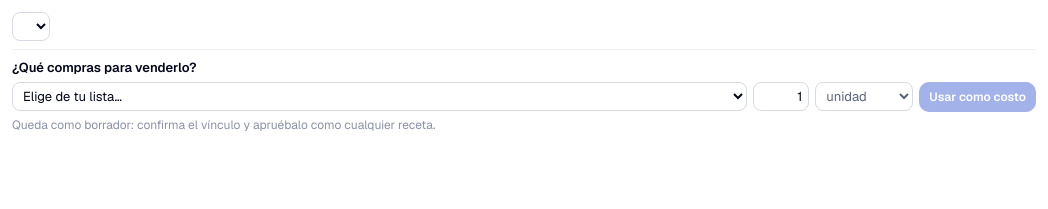
Test: TreatmentPanel inline price › denies with the server's Spanish message
Select "BEBIDA" in the dropdown "Elige de tu lista…" at x=380, y=96, box [12,82,747,111]
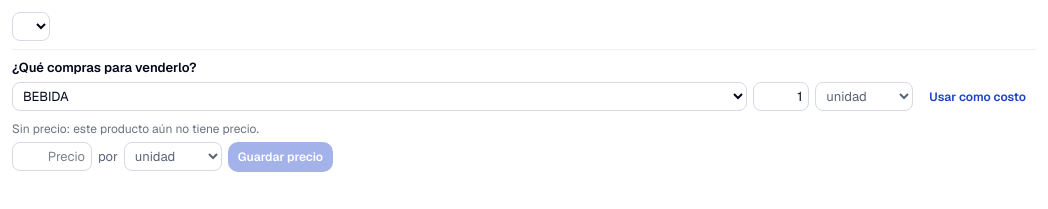
Type "2" into the field labelled "Precio" at x=52, y=157, box [12,142,92,171]
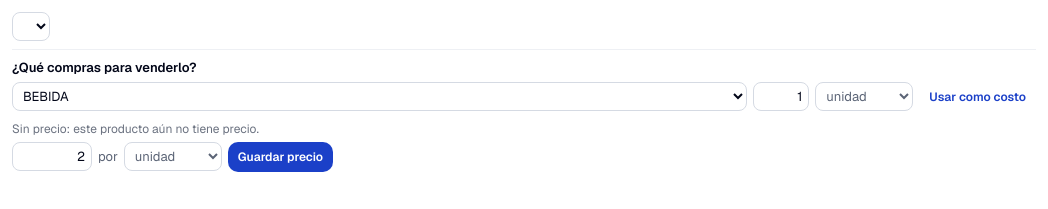
Click the button "Guardar precio" at x=280, y=156, box [228,142,333,172]
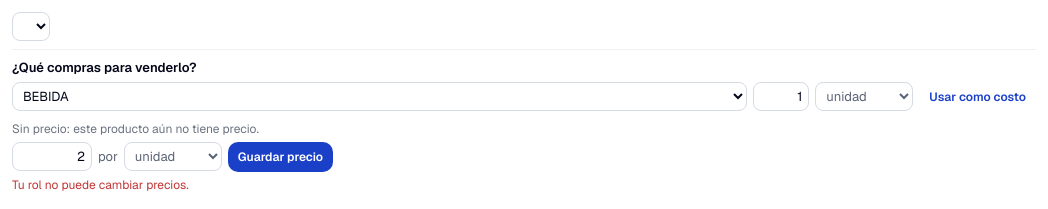
Expected: the text "Tu rol no puede cambiar precios." is shown, [12,176,188,192]
